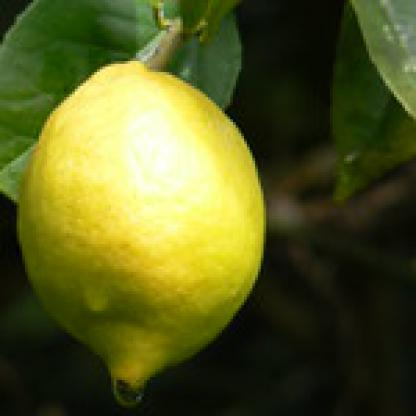lemon: (16, 59, 266, 408)
